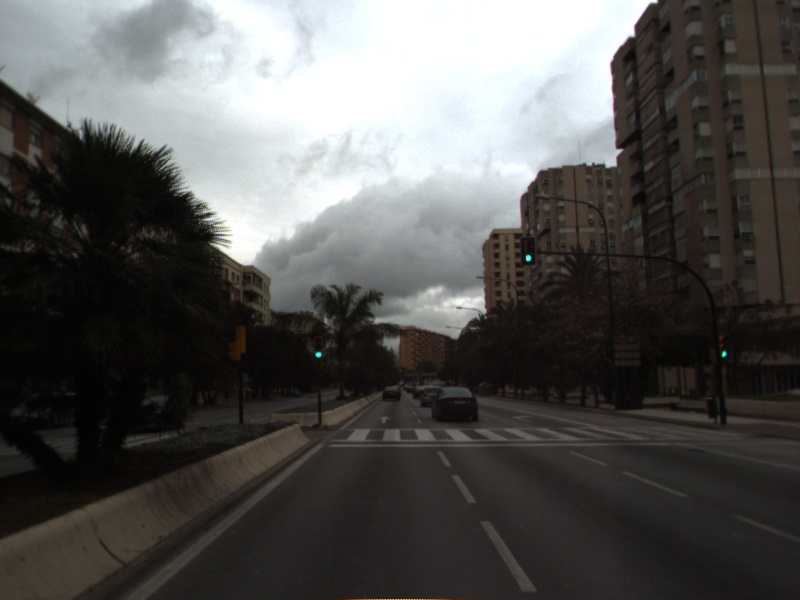RIGHT: (509, 413, 535, 425)
STRAIGHT: (376, 414, 394, 425)
